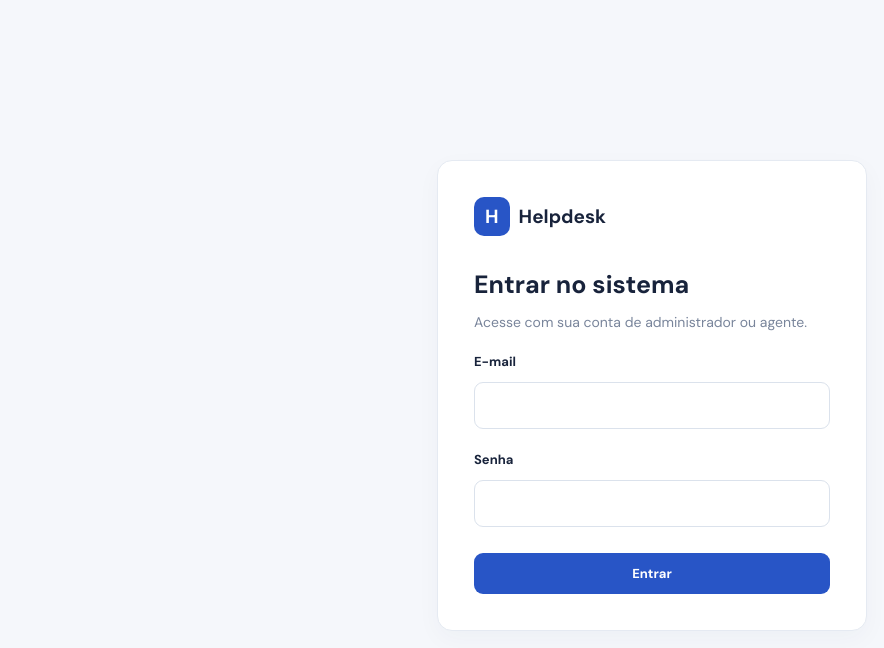
Test: Login › envia credenciais e navega após autenticação
In the field labelled "E-mail": (652, 405) left=474, top=382, right=830, bottom=428, type "agente@example.com"
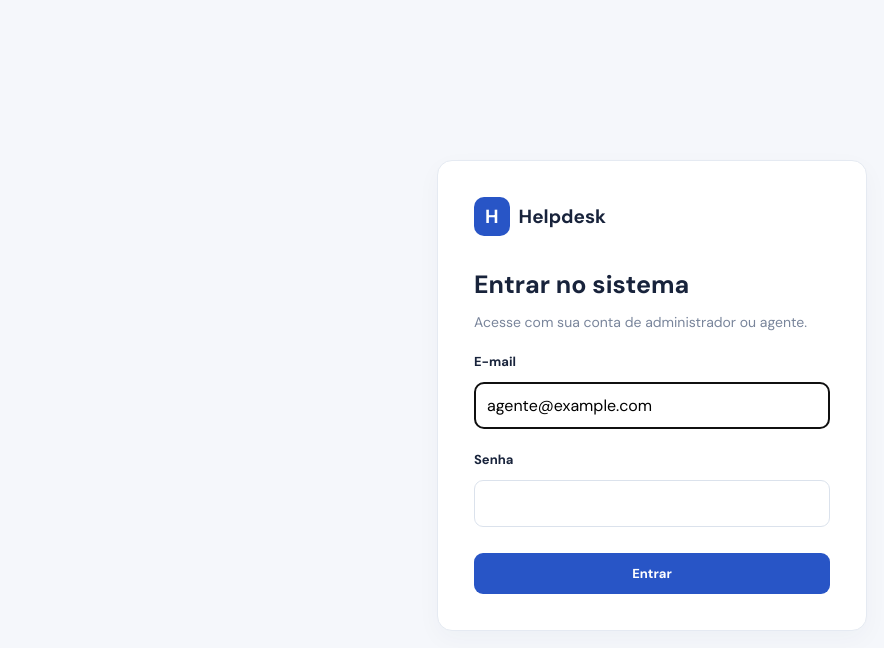
In the password field labelled "Senha": (652, 503) left=474, top=480, right=830, bottom=526, type "minha-senha-de-teste"
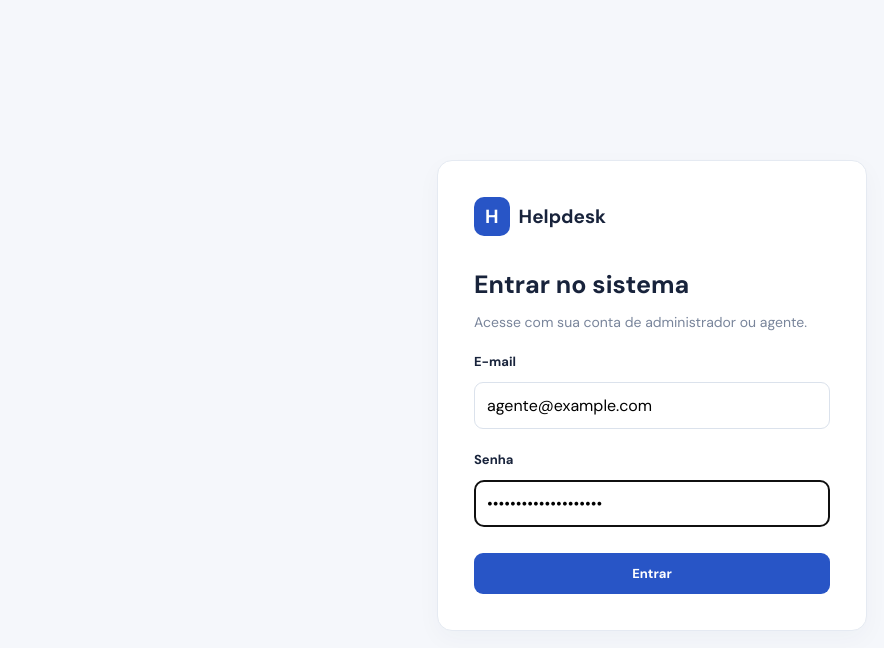
Click the button "Entrar": (652, 573) left=474, top=552, right=830, bottom=594
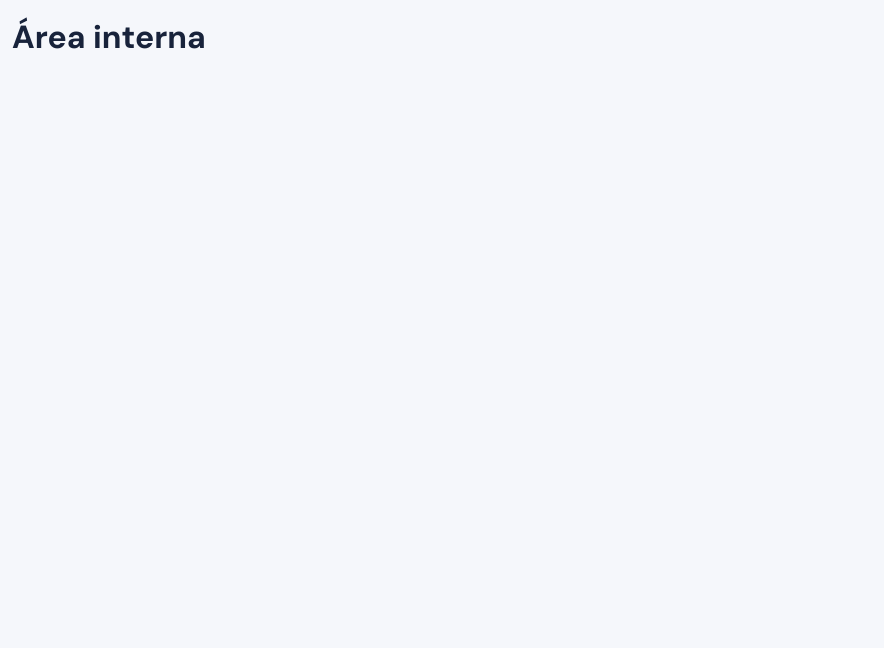
Check: the heading "Área interna" is shown, box left=12, top=16, right=206, bottom=58
